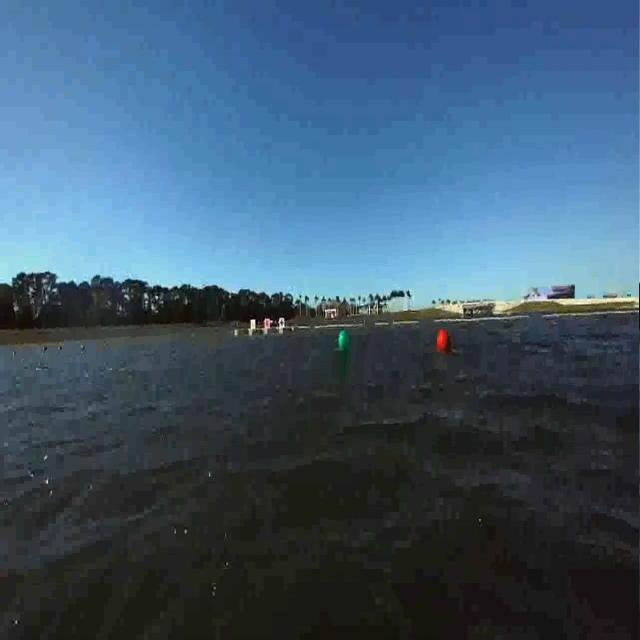green-buoy: (340, 332, 350, 353)
red-buoy: (436, 330, 450, 356)
